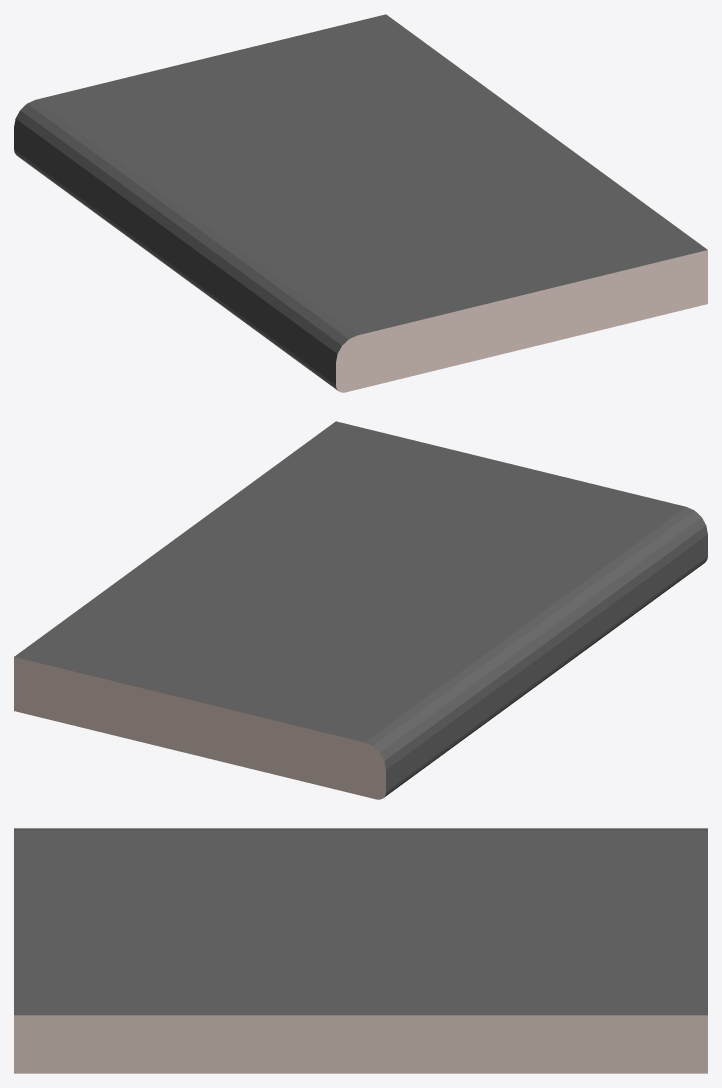
File: Libro1.fbx
3 views of the same model, one above another, from view 1: azimuth 30°, elevation 25°; view 2: azimuth 150°, elevation 25°; view 3: azimuth 270°, elevation 25° (orthographic). The views are drawn at different scales.
Visible parts, largest first — view 1: Cube.079; view 2: Cube.079; view 3: Cube.079.
Part boxes in pixels (x1,y1,x2,y2): Cube.079: (14,14,707,392); Cube.079: (14,421,707,799); Cube.079: (14,828,707,1073).
Size of the model in its own units: 51.16 by 7.11 by 76.66.
